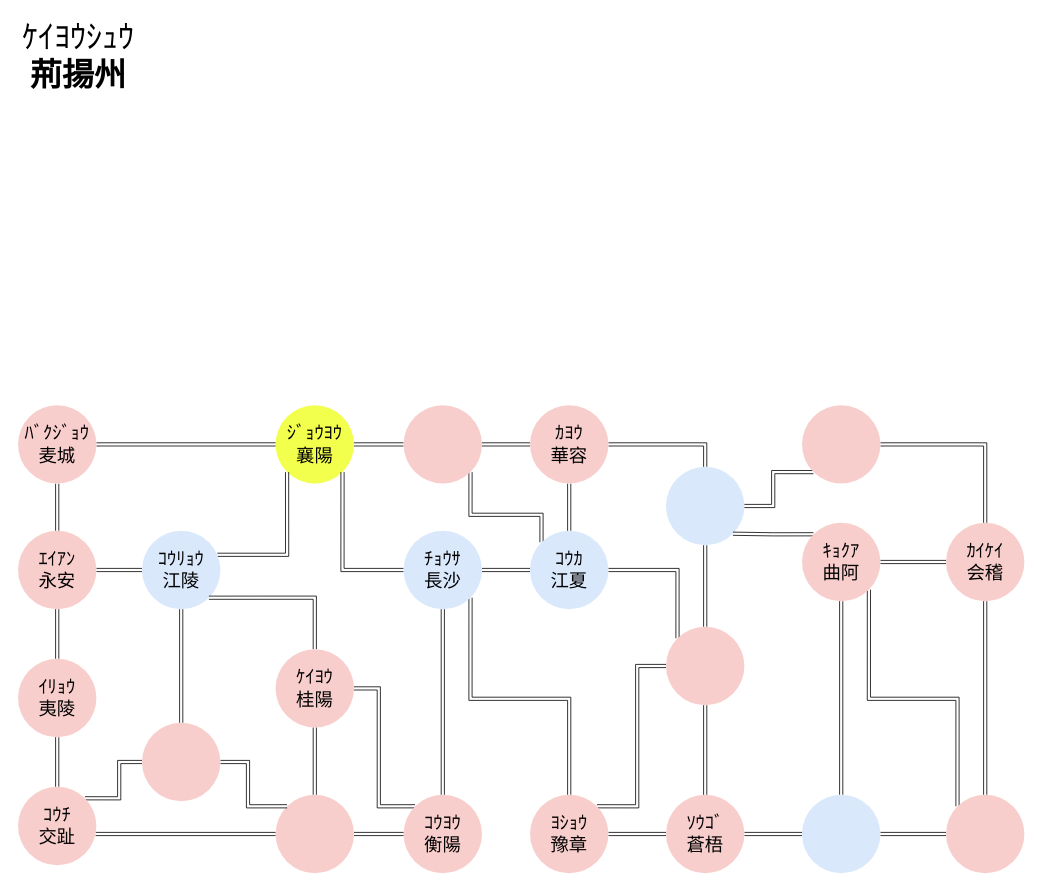
The diagram is 1038 pixels wide and 886 high, and some of its shapes have lost their labels. The centre of each missing label's shape, as x and y in pixels:
"ｹﾝｱﾝ 建安" belongs at pixel 841 833.
"ｹﾝｷﾞｮｳ 建業" belongs at pixel 705 505.
"ｺﾞｸﾞﾝ 呉郡" belongs at pixel 841 444.
"ｻｲｿｳ 柴桑" belongs at pixel 705 665.
"ｼﾝﾔ 新野" belongs at pixel 442 444.
"ﾌﾞﾘｮｳ 武陵" belongs at pixel 181 761.
"ﾘﾝｶｲ 臨海" belongs at pixel 985 833.
"ﾚｲﾘｮｳ 零陵" belongs at pixel 314 833.
